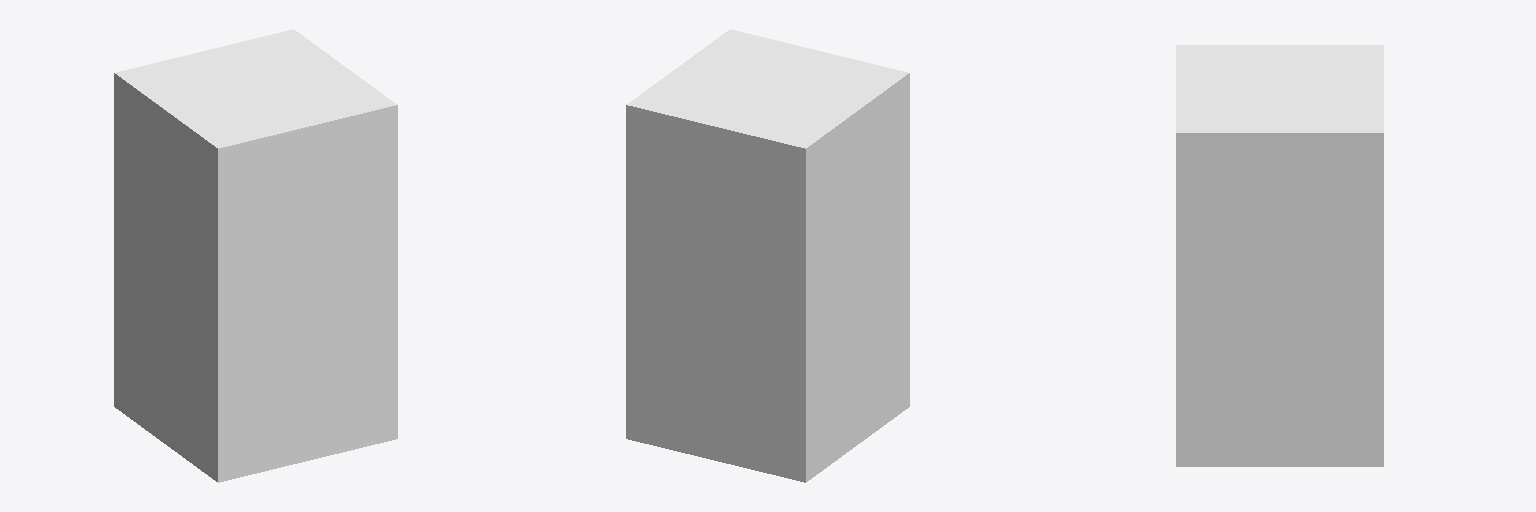
The model's file is robotArm.obj.
3 renders of one model, left to right at view 1: azimuth 30°, elevation 25°; view 2: azimuth 150°, elevation 25°; view 3: azimuth 270°, elevation 25°, orthographic.
Visible parts, largest first — view 1: object 1; view 2: object 1; view 3: object 1.
Part boxes in pixels (left/top/right/bottom): object 1: left=114, top=29, right=397, bottom=482; object 1: left=626, top=29, right=909, bottom=482; object 1: left=1176, top=45, right=1383, bottom=466.
Bounding box in the file's own units: 0.9 × 1.6 × 0.9.